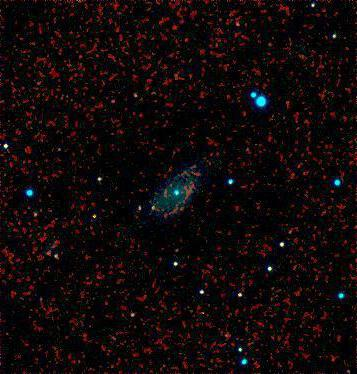star: (82, 199, 112, 229)
